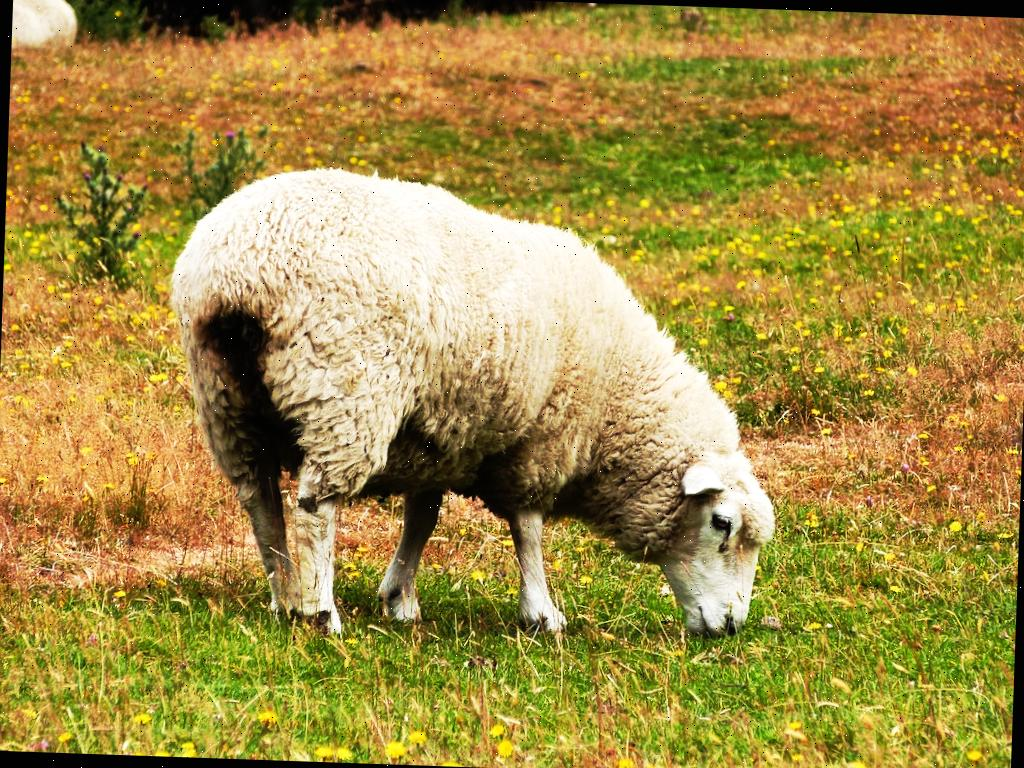Sheep: (160, 157, 790, 639)
